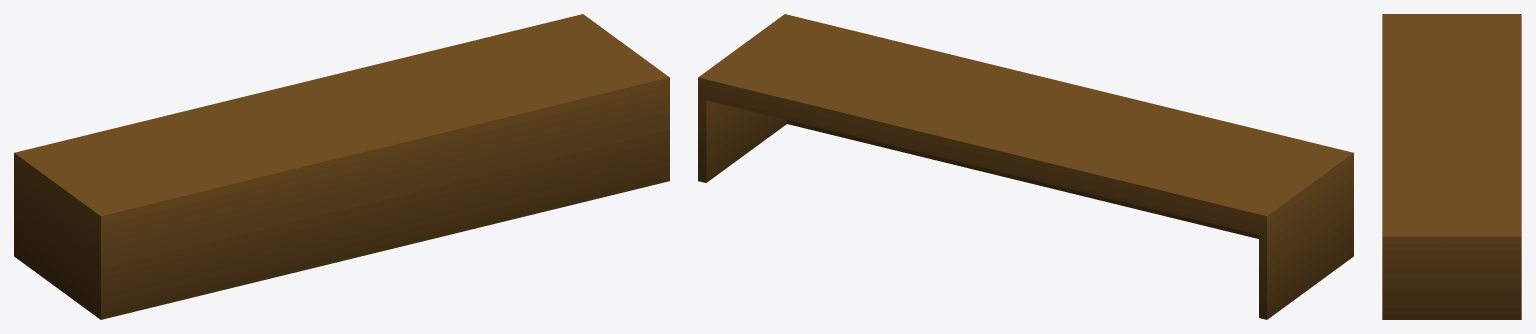
File: BarTable.fbx
3 renders of one model, left to right at view 1: azimuth 30°, elevation 25°; view 2: azimuth 150°, elevation 25°; view 3: azimuth 270°, elevation 25°, orthographic. The views are drawn at different scales.
Parts seen in each view (by area): view 1: BarTable; view 2: BarTable; view 3: BarTable.
Boxes of the visible parts, x1,y1,x2,y2 form: BarTable: (14,14,669,319); BarTable: (698,14,1353,319); BarTable: (1382,14,1521,319).
Bounding box in the file's own units: 1436 × 250 × 379.
